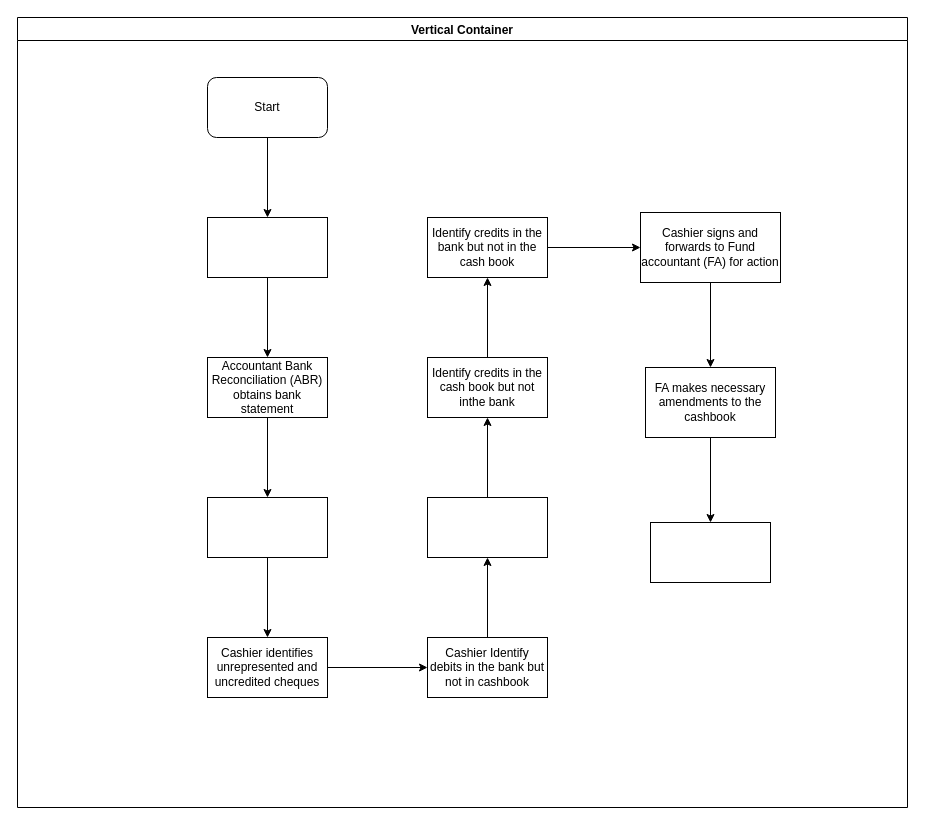
The diagram is 925 pixels wide and 825 high, and some of its shapes have lost their labels. The centre of each missing label's shape, as x and y in pixels:
"ABR balances off at the end of the month" belongs at pixel 267 527.
"Cashier Identify debits in the cash book but not inthe bank" belongs at pixel 487 527.
"Cashier records all daily receipts and payment in cash book" belongs at pixel 267 247.
"FA approves the bank reconciliation statement" belongs at pixel 710 552.
